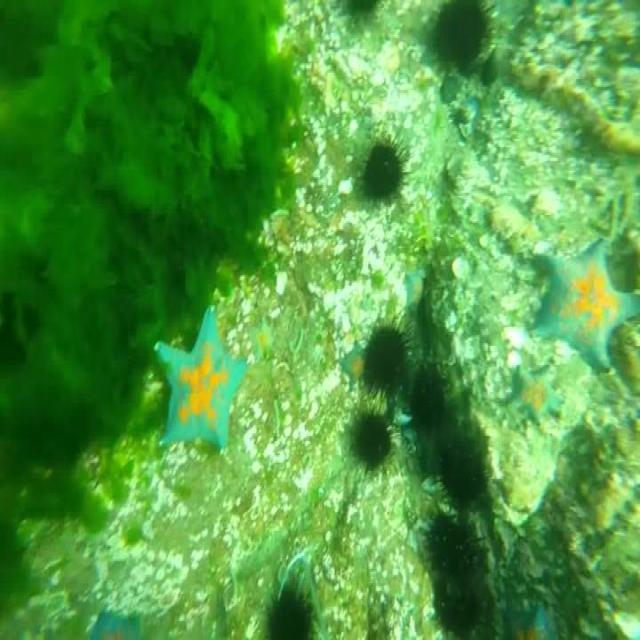echinus: (427, 508, 482, 628), (439, 414, 500, 512), (430, 0, 490, 71), (359, 139, 409, 215), (361, 322, 411, 392), (264, 588, 323, 640), (408, 365, 452, 430), (348, 408, 392, 466)
scallop: (452, 258, 470, 281), (466, 335, 480, 359)
starfish: (150, 300, 246, 454), (538, 235, 640, 373), (510, 357, 564, 428), (507, 603, 558, 640), (90, 607, 138, 640)
